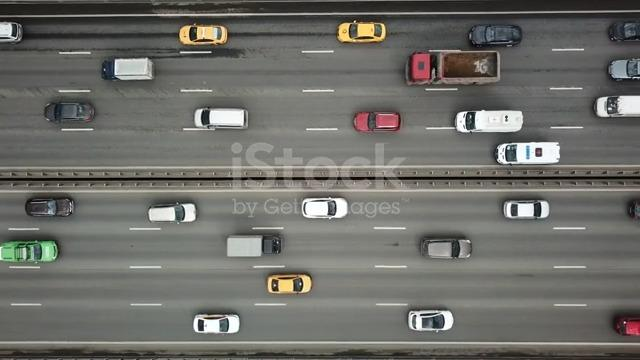Cars: (454, 110, 524, 134), (495, 142, 561, 166), (1, 240, 59, 263), (102, 57, 155, 82), (469, 24, 523, 48), (194, 107, 249, 130), (337, 21, 387, 44), (45, 101, 95, 123), (593, 95, 640, 118), (179, 24, 228, 46), (148, 202, 197, 224), (353, 111, 401, 133), (26, 197, 75, 218), (503, 200, 550, 220), (268, 274, 312, 294), (608, 57, 640, 82), (608, 20, 640, 42), (1, 21, 24, 44)
